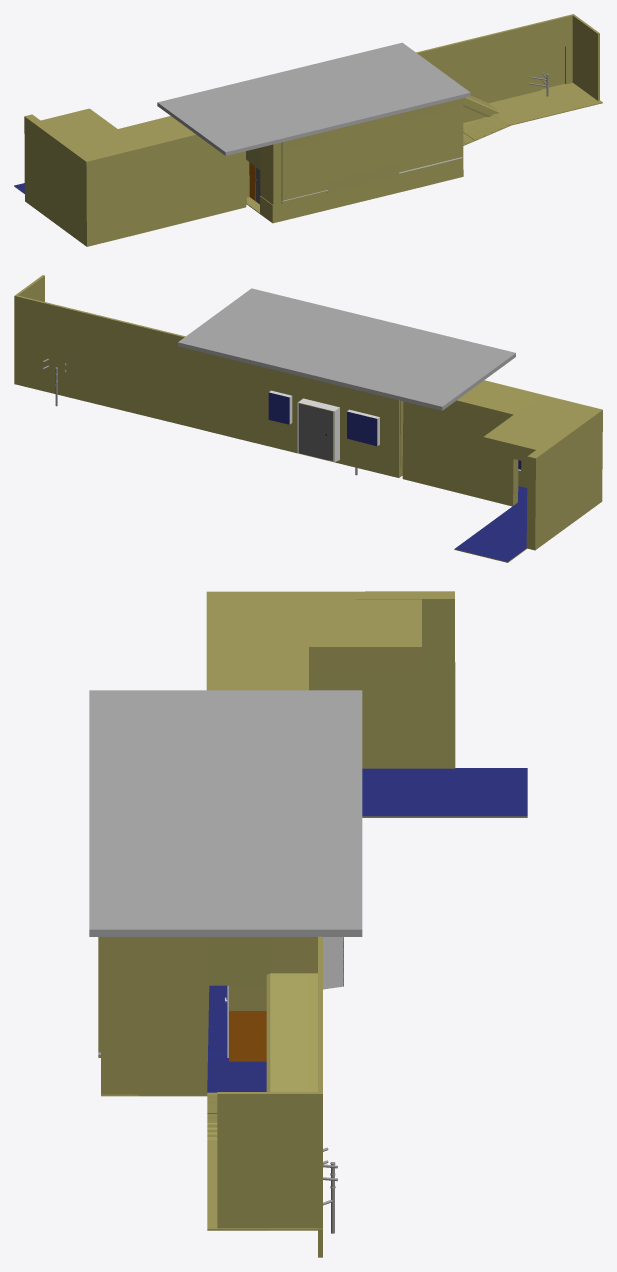
The model's file is MENU.fbx.
3 renders of one model, top to bottom at view 1: azimuth 30°, elevation 25°; view 2: azimuth 150°, elevation 25°; view 3: azimuth 270°, elevation 25°, orthographic. The views are drawn at different scales.
Visible parts, largest first — view 1: Куб, Куб.004; view 2: Куб, Куб.004; view 3: Куб, Куб.004.
Part boxes in pixels (<box>): Куб: <box>14,14,602,246</box>; Куб.004: <box>157,42,470,155</box>; Куб: <box>14,275,602,562</box>; Куб.004: <box>178,288,515,410</box>; Куб: <box>98,591,527,1257</box>; Куб.004: <box>89,690,362,936</box>.
Size of the model in its own units: 5409 by 934 by 1988.
